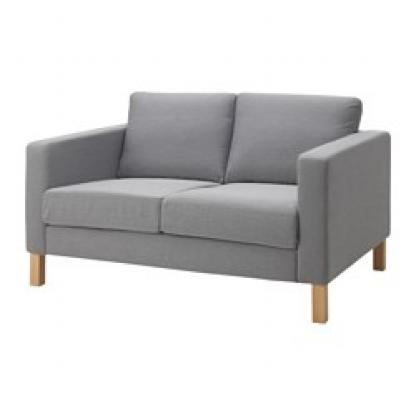Sofa: (20, 76, 391, 330)
